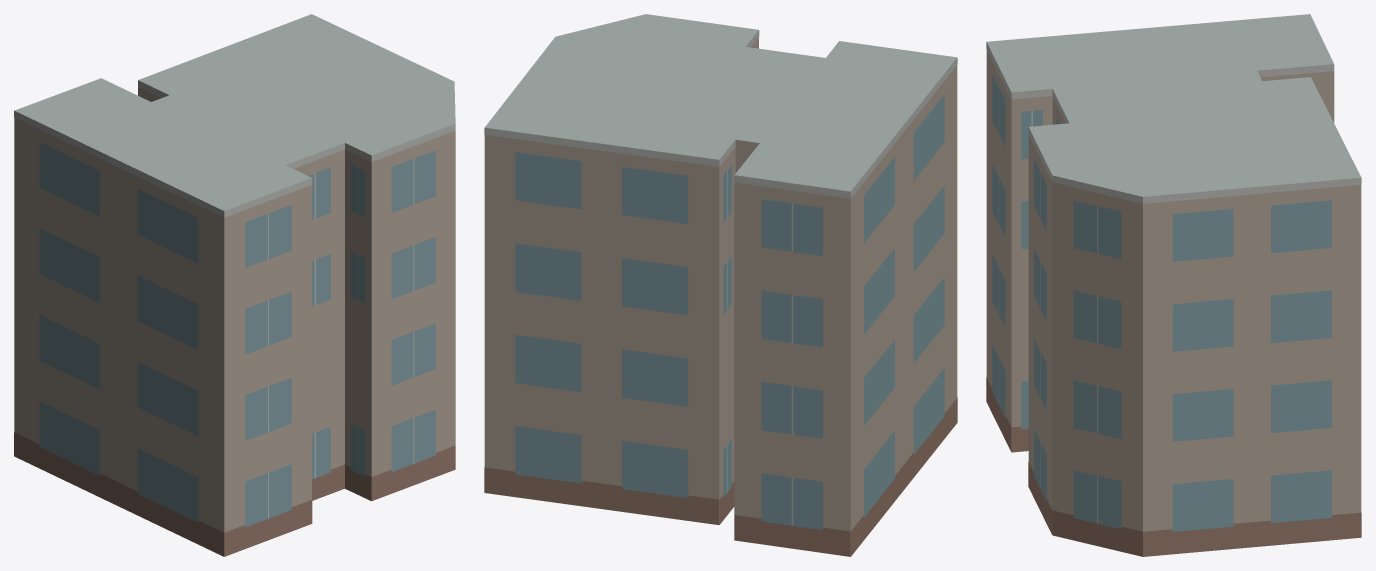
The model's file is survey-upis-32740410.glb.
3 renders of one model, left to right at view 1: azimuth 30°, elevation 25°; view 2: azimuth 150°, elevation 25°; view 3: azimuth 270°, elevation 25°, orthographic. The views are drawn at different scales.
Visible parts, largest first — view 1: survey-upis-32740410.tmp; view 2: survey-upis-32740410.tmp; view 3: survey-upis-32740410.tmp.
Part boxes in pixels (x1,y1,x2,y2): survey-upis-32740410.tmp: (14, 14, 455, 556); survey-upis-32740410.tmp: (484, 14, 957, 556); survey-upis-32740410.tmp: (986, 14, 1361, 556).
Size of the model in its own units: 13.63 by 12.5 by 11.81.
